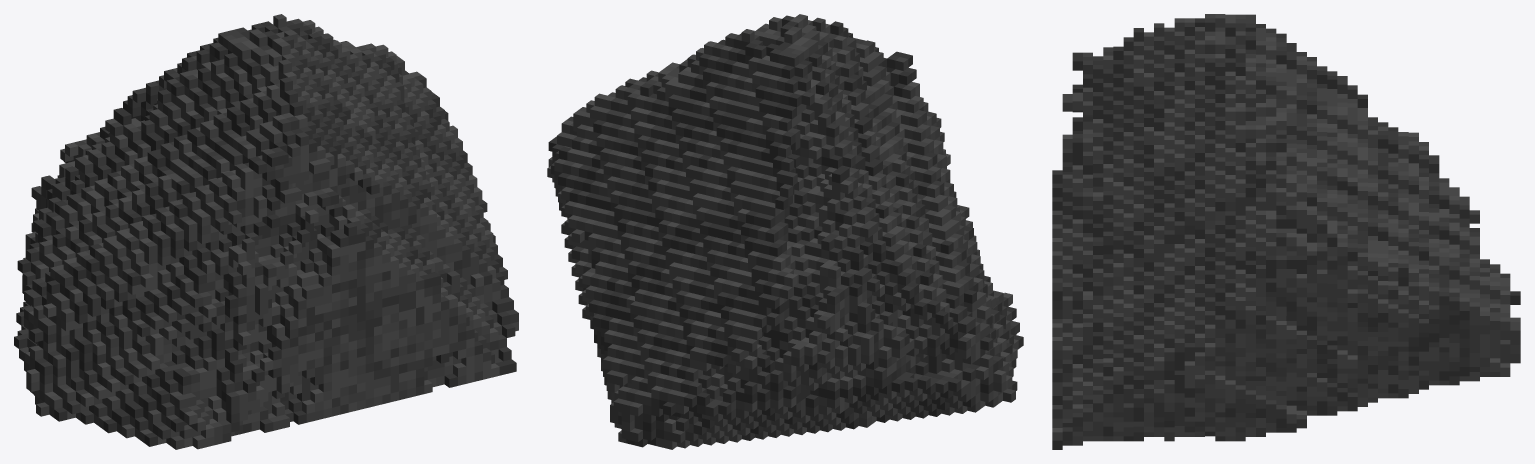
The model's file is Rocas-1.obj.
The picture shows the model from 3 angles, left to right: view 1: azimuth 30°, elevation 25°; view 2: azimuth 150°, elevation 25°; view 3: azimuth 270°, elevation 25°; orthographic projection. The views are drawn at different scales.
Size of the model in its own units: 5.3 by 3.7 by 4.6.
1 material, 1 textured.
